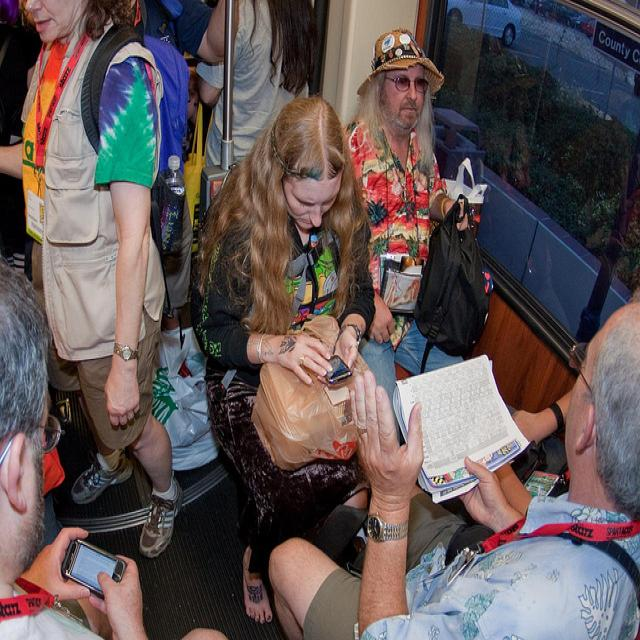Vehicle: (446, 0, 522, 48), (541, 0, 583, 28), (633, 72, 640, 99)
